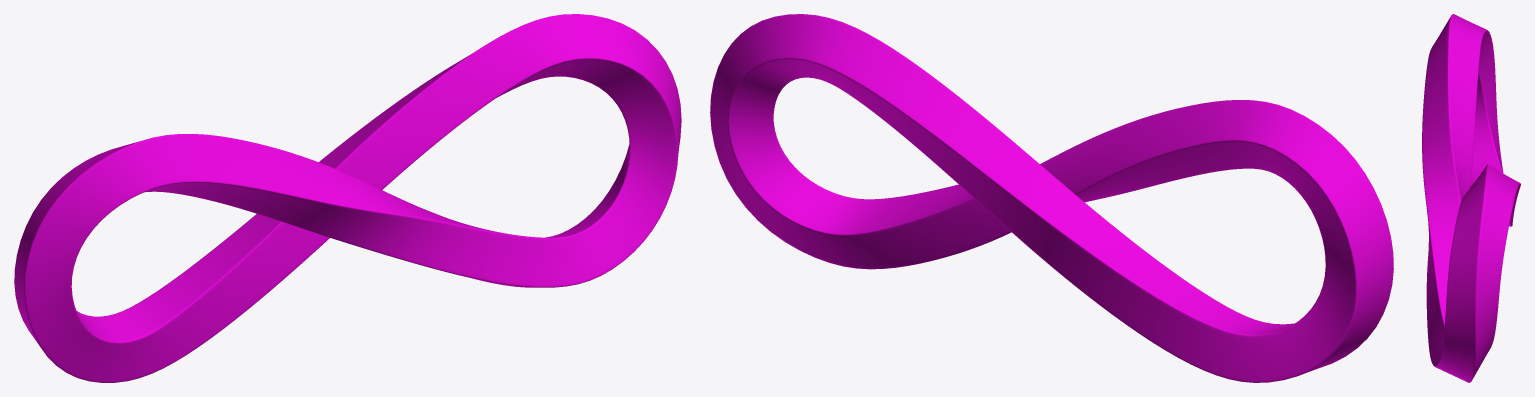
Rendered from squareInfinity.glb.
The picture shows the model from 3 angles, left to right: view 1: azimuth 30°, elevation 25°; view 2: azimuth 150°, elevation 25°; view 3: azimuth 270°, elevation 25°; orthographic projection. The views are drawn at different scales.
Visible parts, largest first — view 1: Infinity_loop; view 2: Infinity_loop; view 3: Infinity_loop.
Part boxes in pixels (<box>): Infinity_loop: <box>14,14,681,382</box>; Infinity_loop: <box>710,14,1393,382</box>; Infinity_loop: <box>1422,14,1520,382</box>.
Size of the model in its own units: 5.9 by 2.17 by 1.
